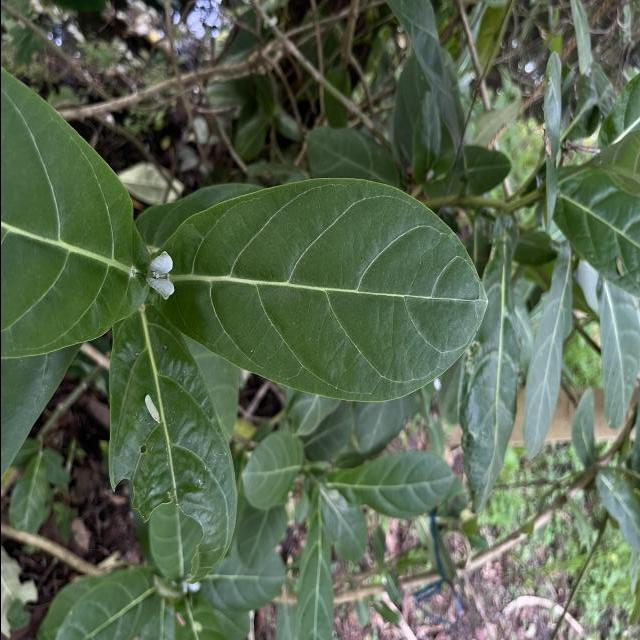Calotropis gigantea: (148, 174, 489, 408), (346, 448, 454, 518), (240, 429, 305, 508)
